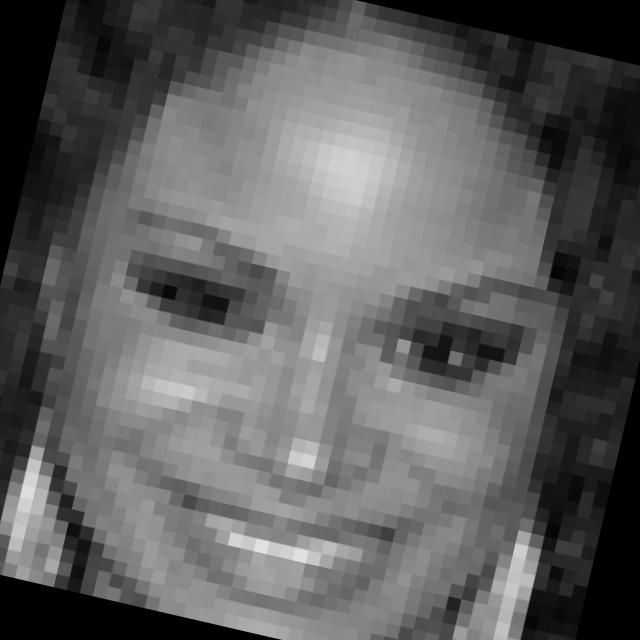happy: (39, 178, 556, 640)
